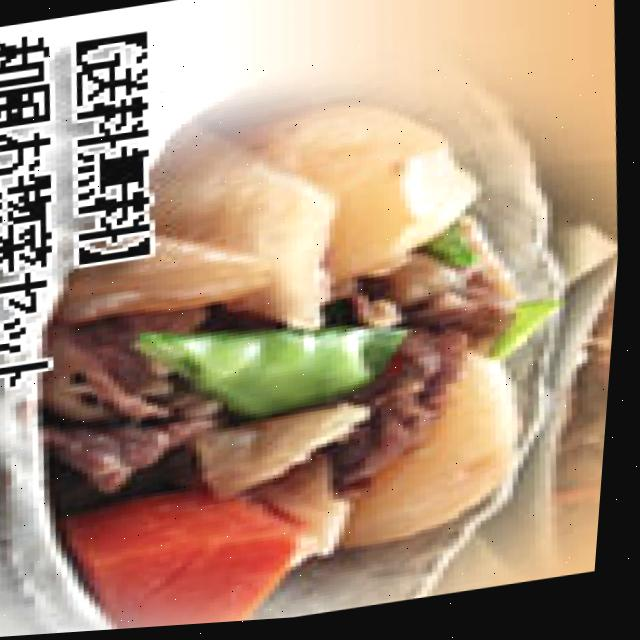牛肉菜式: (55, 102, 601, 608)
